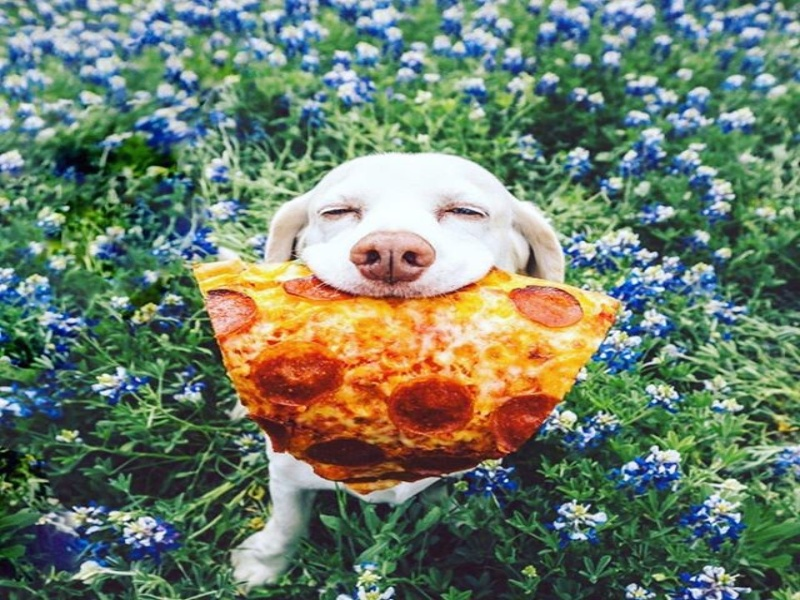peperoni: (246, 337, 347, 405), (388, 375, 475, 437), (488, 392, 561, 452), (509, 283, 586, 331), (304, 436, 385, 469)
